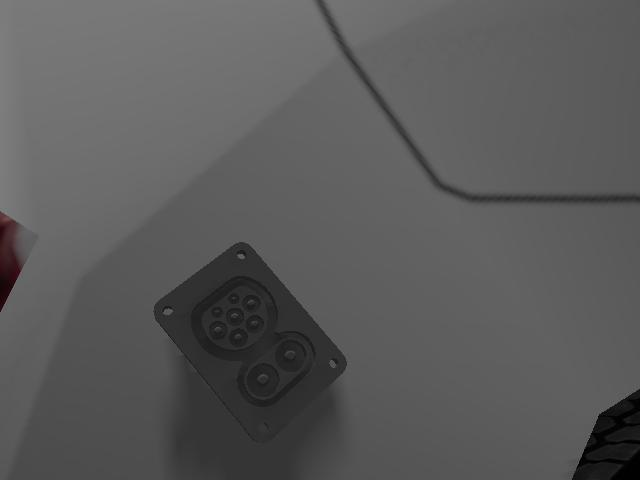EV-socket: (152, 239, 352, 447)
